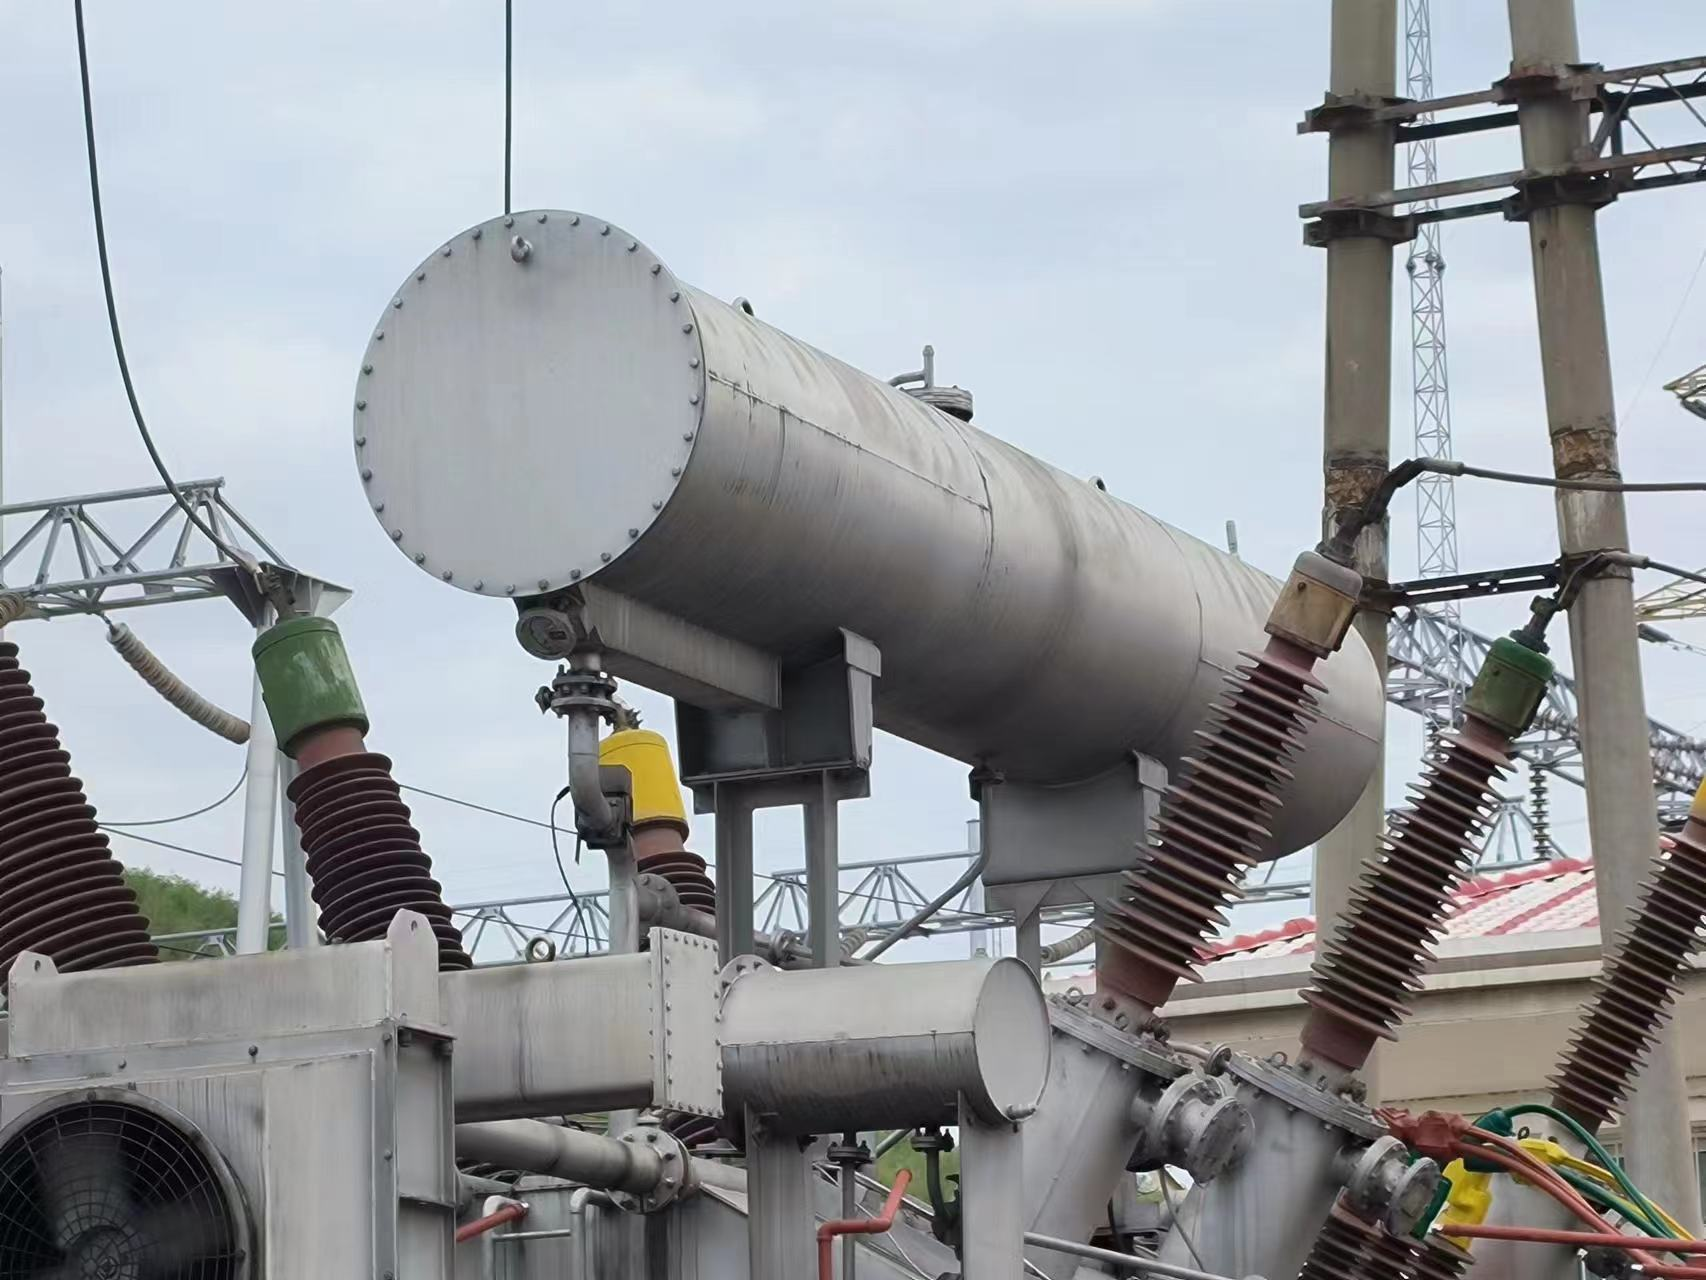Conservator: (324, 212, 1389, 904)
